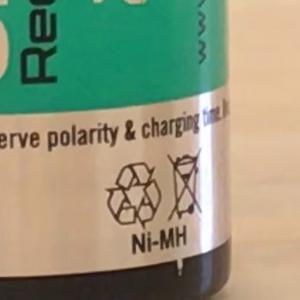NI-MH: (122, 215, 196, 264)
